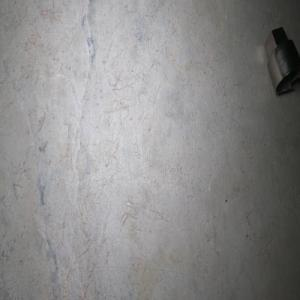MetalPart: (264, 26, 300, 94)
